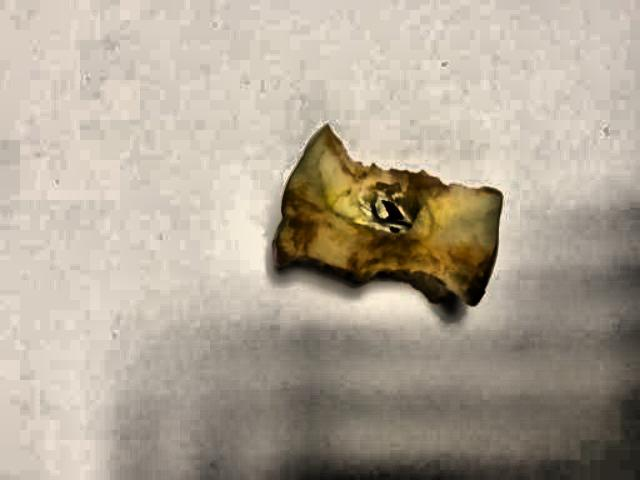Almennt: (248, 105, 520, 320)
